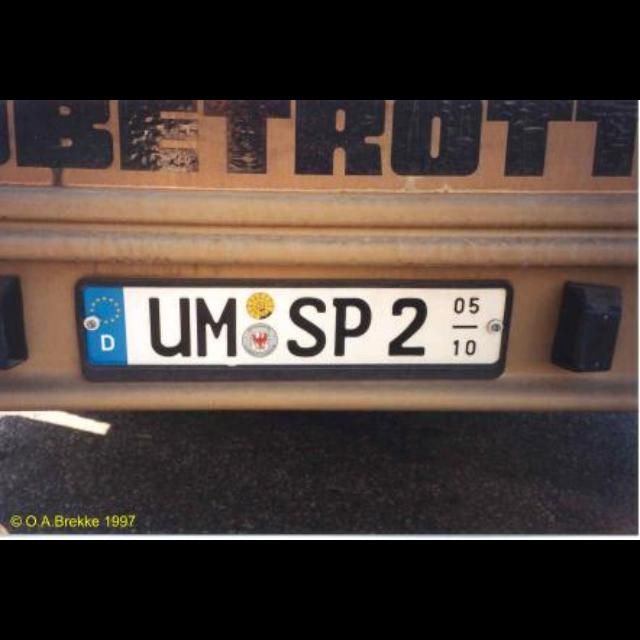d_license_plate: (81, 283, 503, 365)
